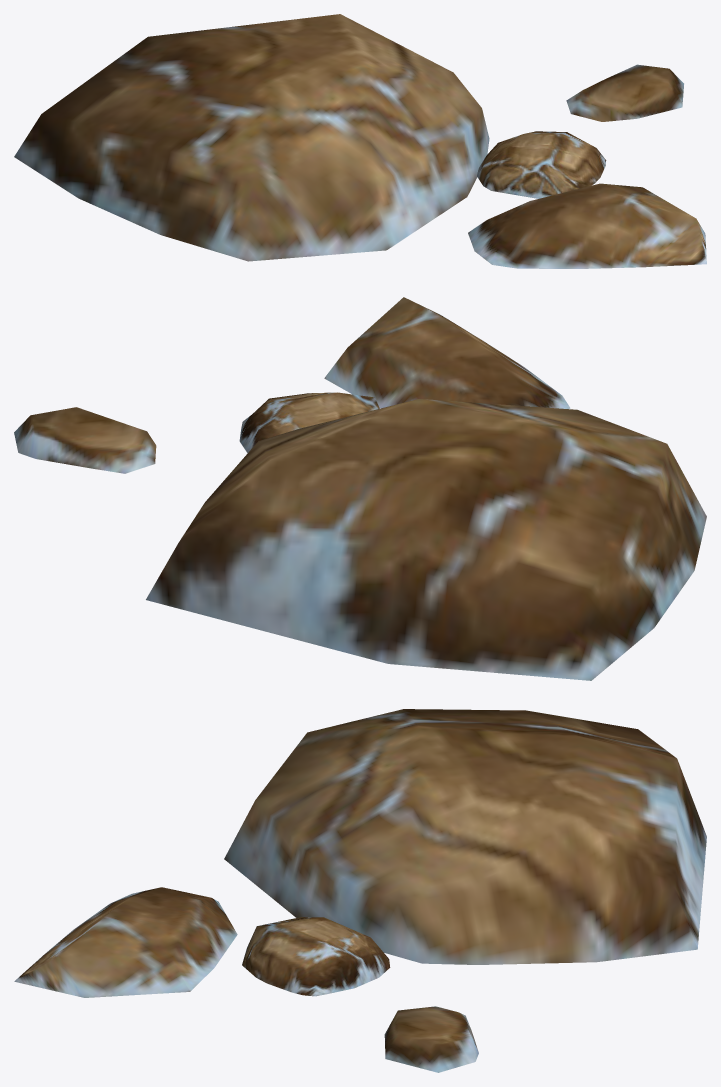
The model's file is Stage_ZhuCheng_ShiTou06.FBX.
3 renders of one model, top to bottom at view 1: azimuth 30°, elevation 25°; view 2: azimuth 150°, elevation 25°; view 3: azimuth 270°, elevation 25°, orthographic. The views are drawn at different scales.
Visible parts, largest first — view 1: Stage_ZhuCheng_ShiTou06; view 2: Stage_ZhuCheng_ShiTou06; view 3: Stage_ZhuCheng_ShiTou06.
Part boxes in pixels (left/top/right/bottom): Stage_ZhuCheng_ShiTou06: left=14, top=14, right=706, bottom=268; Stage_ZhuCheng_ShiTou06: left=14, top=297, right=706, bottom=680; Stage_ZhuCheng_ShiTou06: left=14, top=709, right=706, bottom=1072.
Bounding box in the file's own units: 59.79 × 10.31 × 55.81.
